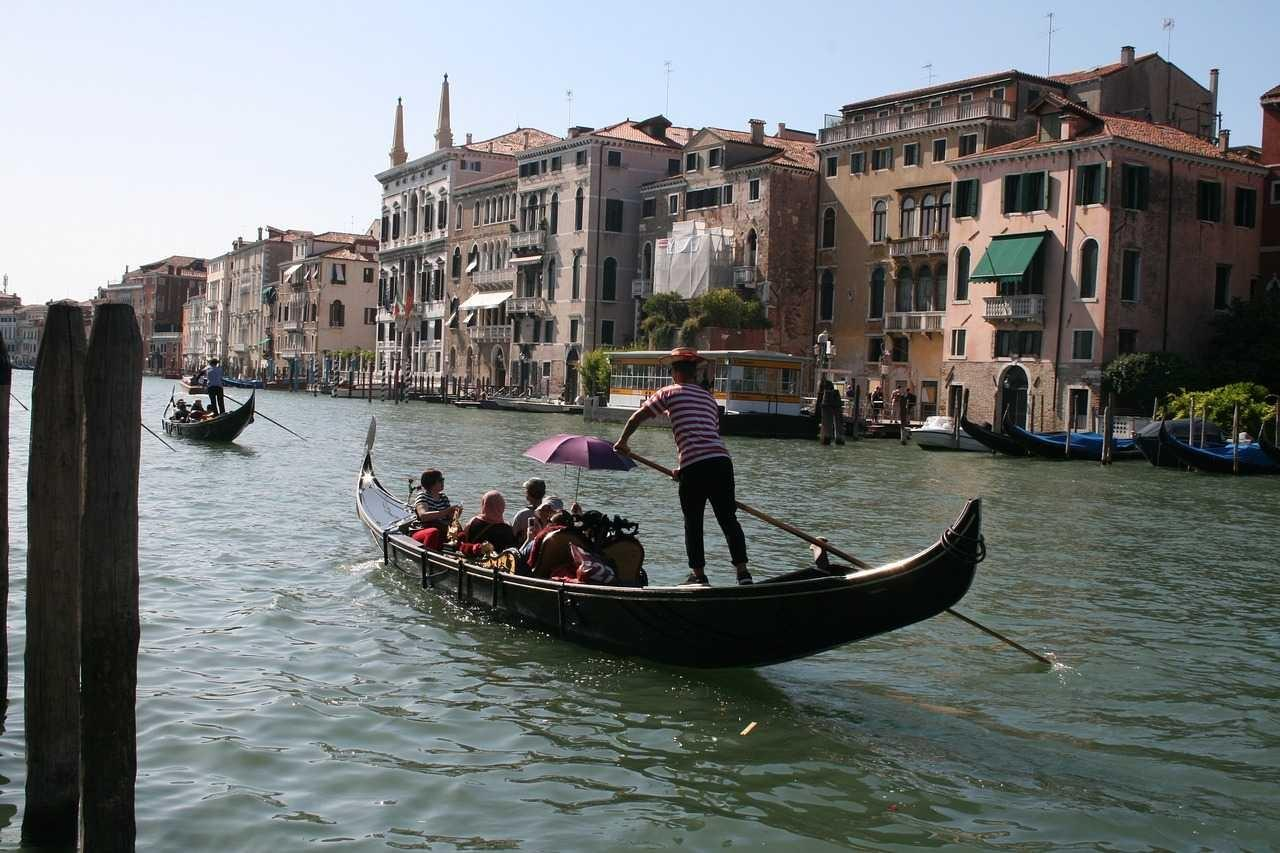kayak: (356, 437, 985, 676), (611, 349, 822, 439), (1133, 419, 1266, 471), (1003, 423, 1132, 460), (163, 391, 255, 442), (1171, 438, 1279, 475), (909, 415, 992, 452), (965, 419, 1030, 457), (482, 395, 580, 413), (224, 375, 264, 389)
